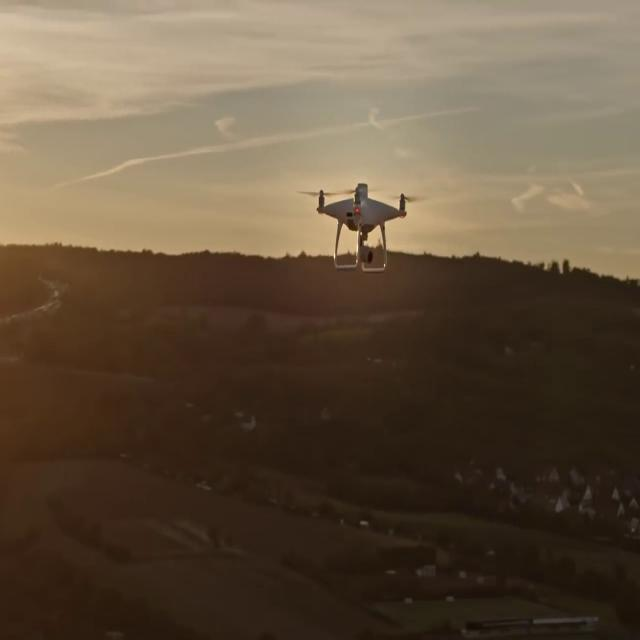drone: (299, 179, 431, 273)
